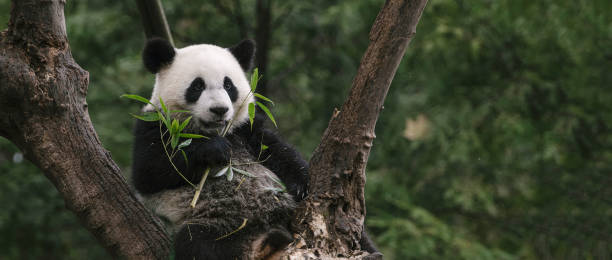panda: (126, 14, 304, 159)
